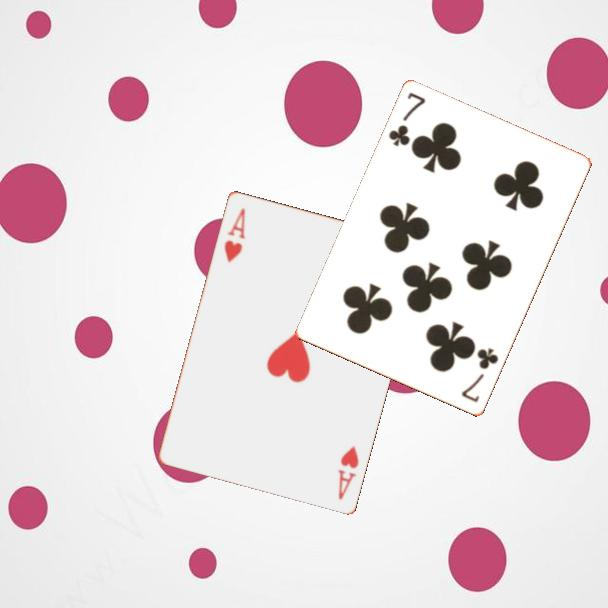c07: (458, 344, 501, 406), (385, 89, 428, 150)
h01: (220, 204, 248, 265), (334, 441, 361, 502)
